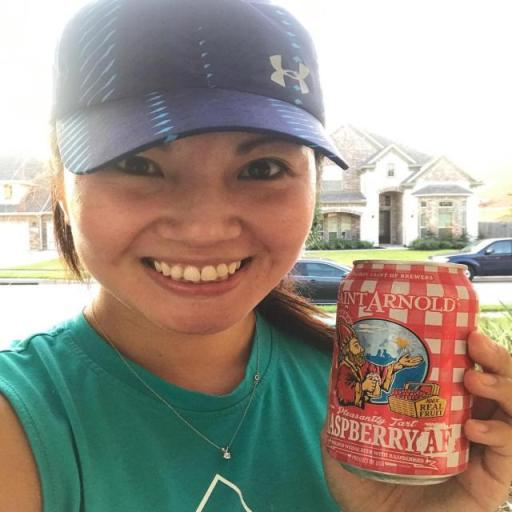Under Armour: (268, 52, 312, 96)
